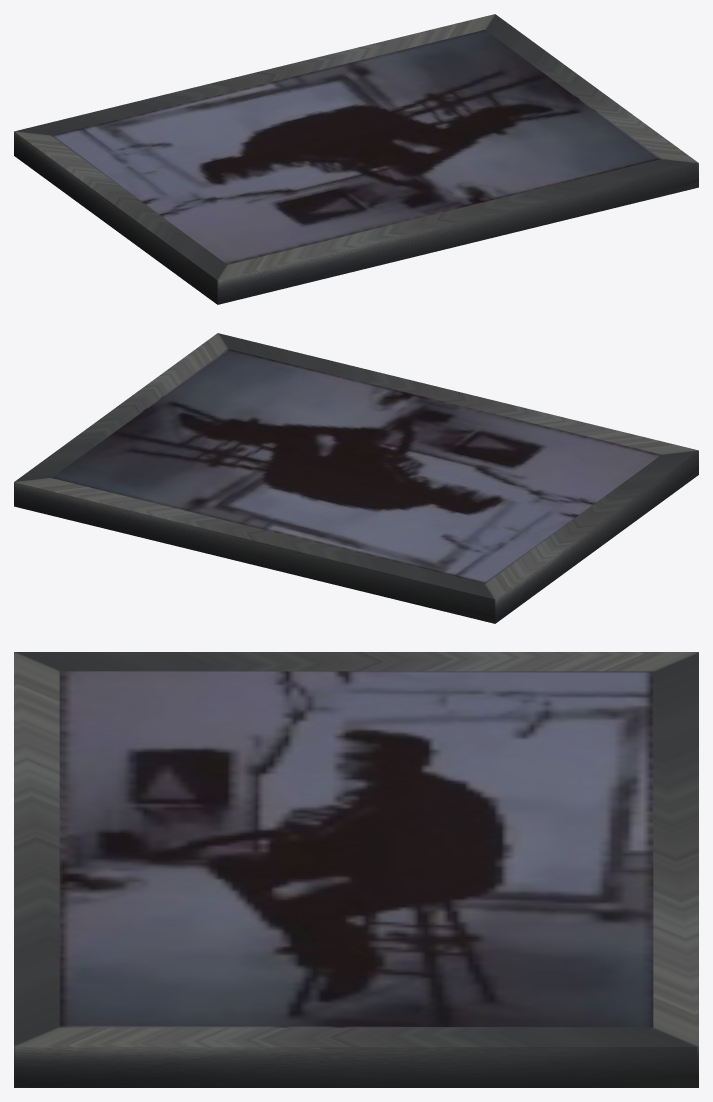
Rendered from frame13.FBX.
3 renders of one model, top to bottom at view 1: azimuth 30°, elevation 25°; view 2: azimuth 150°, elevation 25°; view 3: azimuth 270°, elevation 25°, orthographic. The views are drawn at different scales.
Visible parts, largest first — view 1: Object001, Box001; view 2: Object001, Box001; view 3: Object001, Box001.
Part boxes in pixels (x1=…): Object001: x1=51, y1=30, x2=661, y2=264; Box001: x1=14, y1=14, x2=698, y2=304; Object001: x1=51, y1=349, x2=661, y2=583; Box001: x1=14, y1=333, x2=698, y2=623; Object001: x1=59, y1=671, x2=653, y2=1027; Box001: x1=14, y1=652, x2=698, y2=1087.
Bounding box in the file's own units: 99.93 × 4.84 × 73.26.
Materials: 3 (3 with a texture image).
